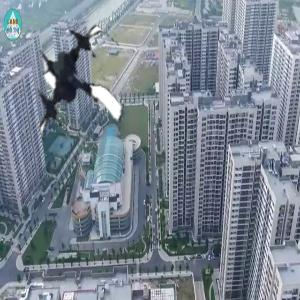drone: (15, 27, 147, 159)
